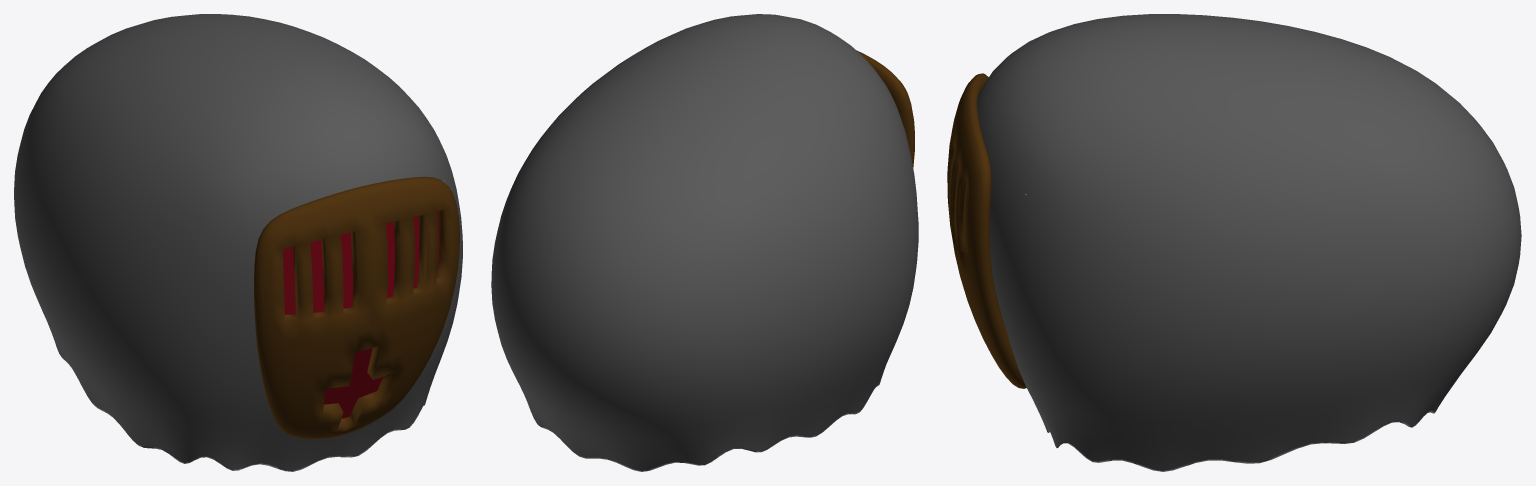
The model's file is biged.fbx.
3 renders of one model, left to right at view 1: azimuth 30°, elevation 25°; view 2: azimuth 150°, elevation 25°; view 3: azimuth 270°, elevation 25°, orthographic. The views are drawn at different scales.
Parts seen in each view (by area): view 1: Tissu, Masque, Tissu.001, Tissu.002; view 2: Tissu, Masque; view 3: Tissu, Masque.
Boxes of the visible parts, x1,y1,x2,y2 form: Tissu: (14,14,462,471); Masque: (254,176,459,439); Tissu.001: (283,211,439,314); Tissu.002: (324,348,382,418); Tissu: (491,14,918,471); Masque: (857,50,914,167); Tissu: (977,14,1521,471); Masque: (947,73,1026,388).
Bounding box in the file's own units: 186 × 183 × 249.
